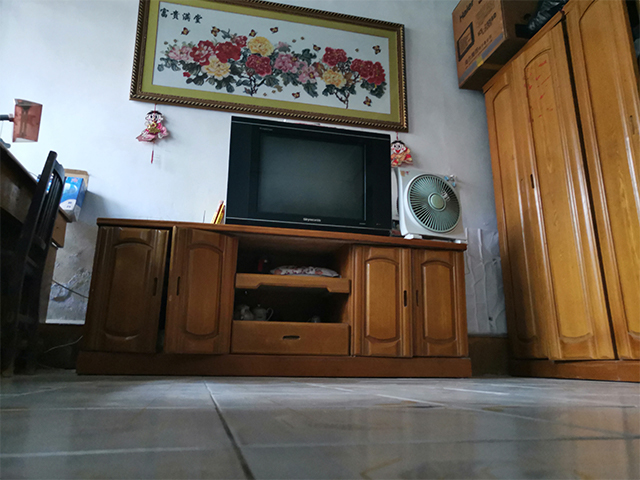cabinet: (74, 214, 472, 379), (480, 1, 640, 384)
stool: (1, 148, 69, 381)
